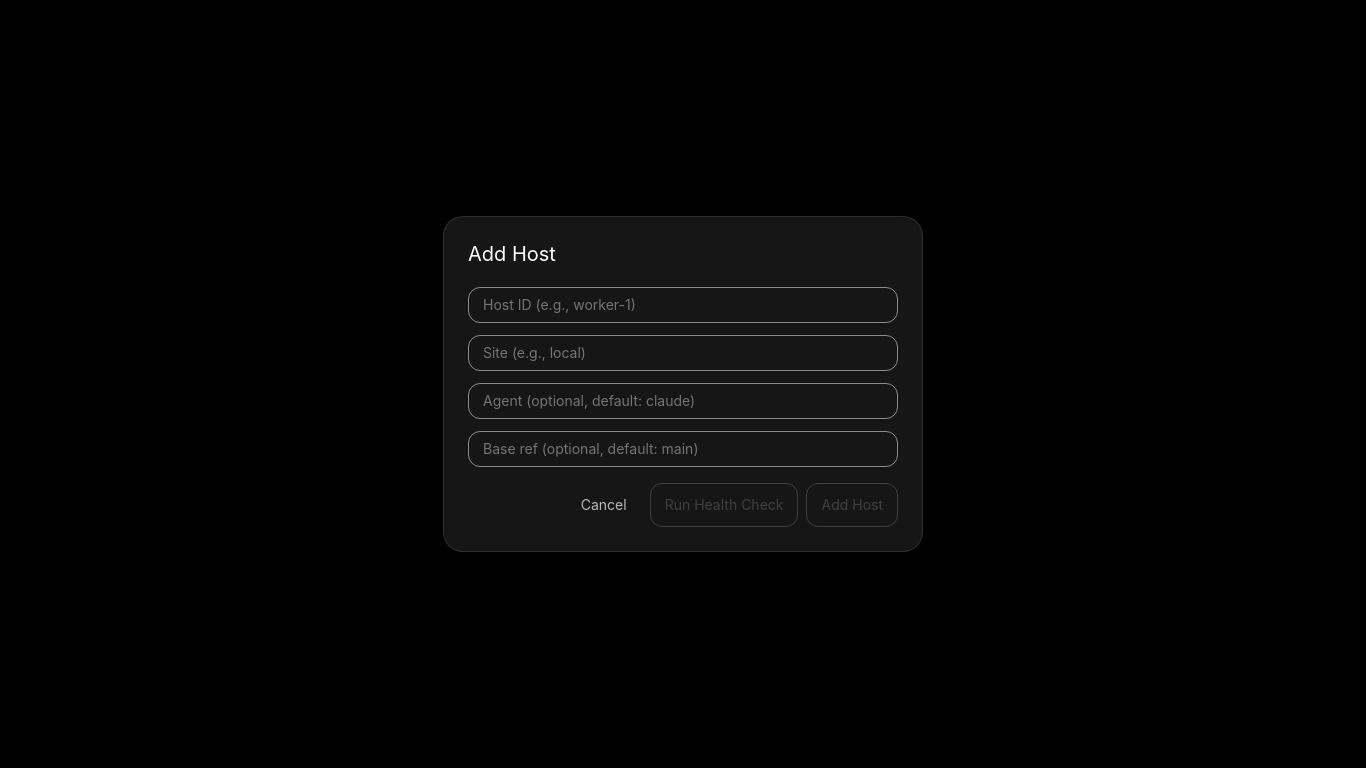
Test: AddHostModal › should show error message on failed probe
Type "worker-1" into the field with placeholder "Host ID (e.g., worker-1)" at (683, 305), box [481, 294, 885, 316]
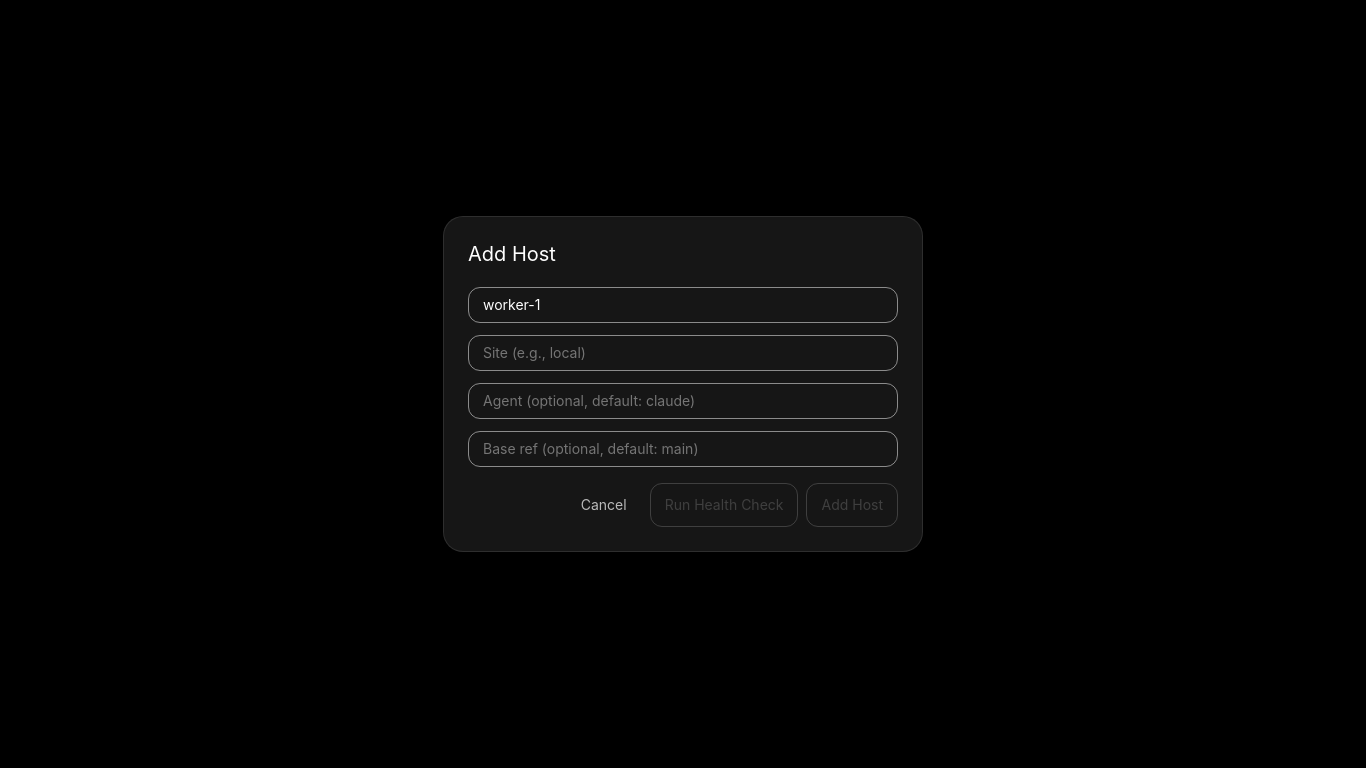
Type "local" into the field with placeholder "Site (e.g., local)" at (683, 353), box [481, 342, 885, 364]
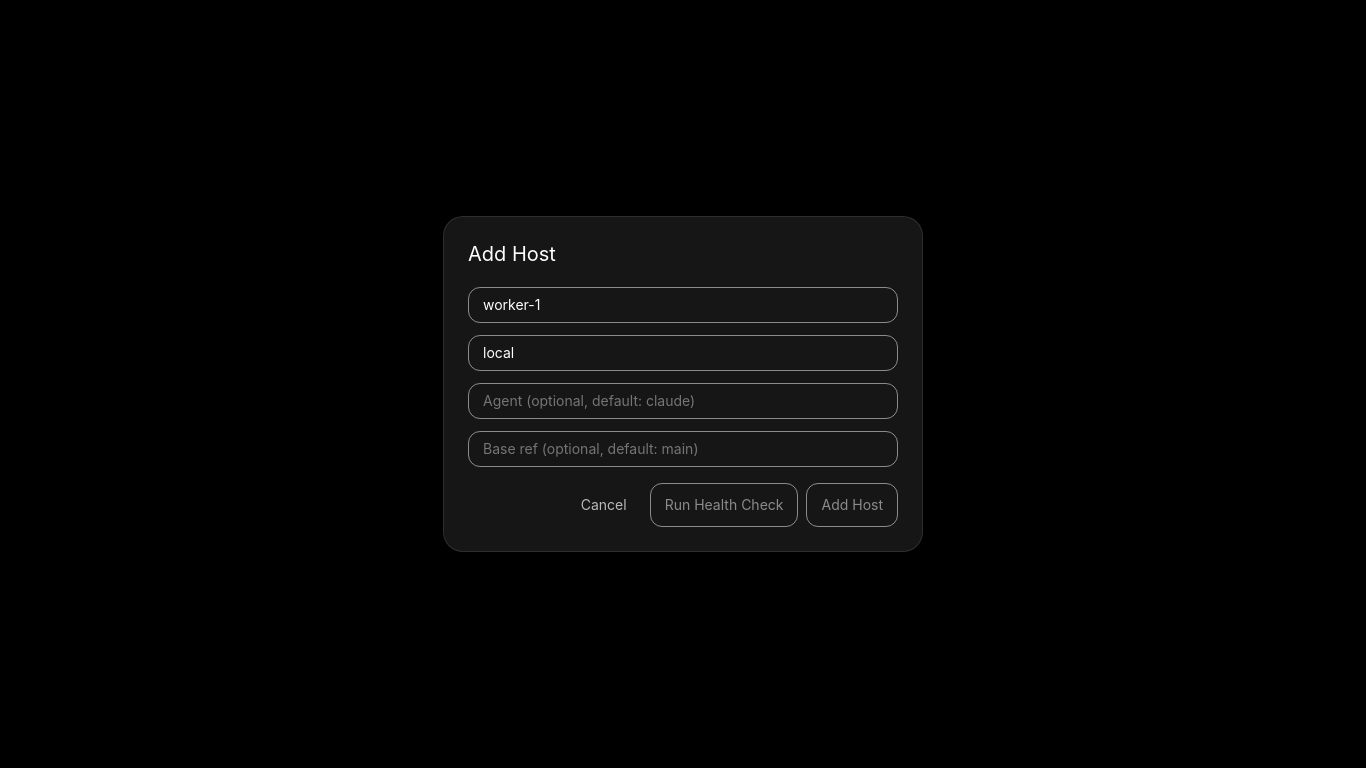
Click the button "Run Health Check" at (724, 505), box [650, 483, 798, 527]
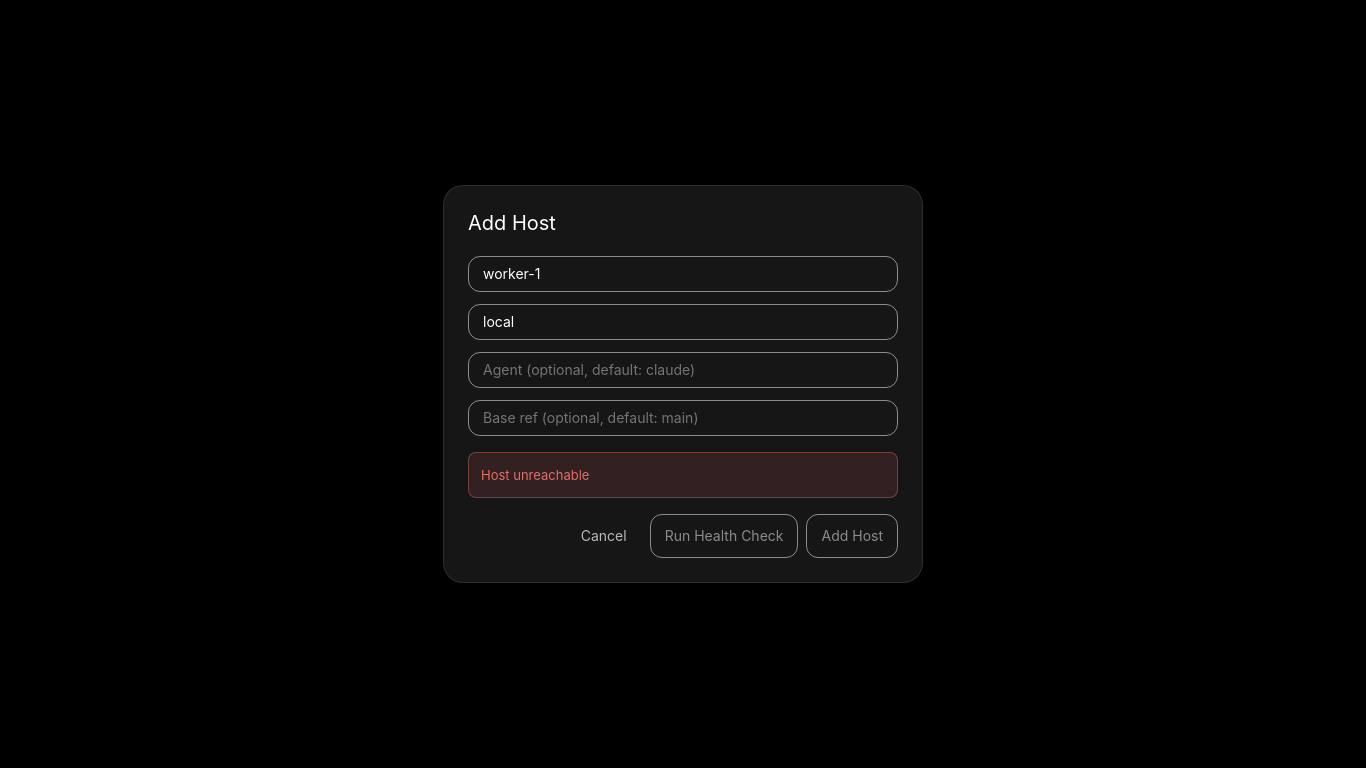
Expected: the text "Host unreachable" is shown, [468, 452, 898, 498]
